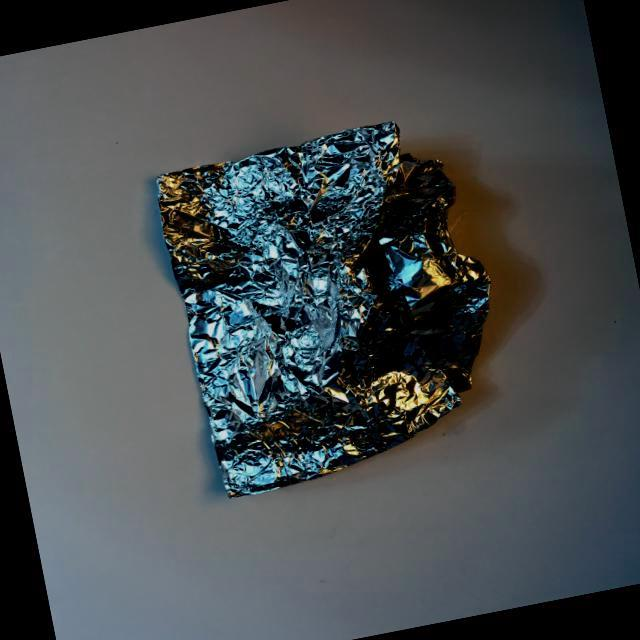metal: (122, 83, 536, 530)
